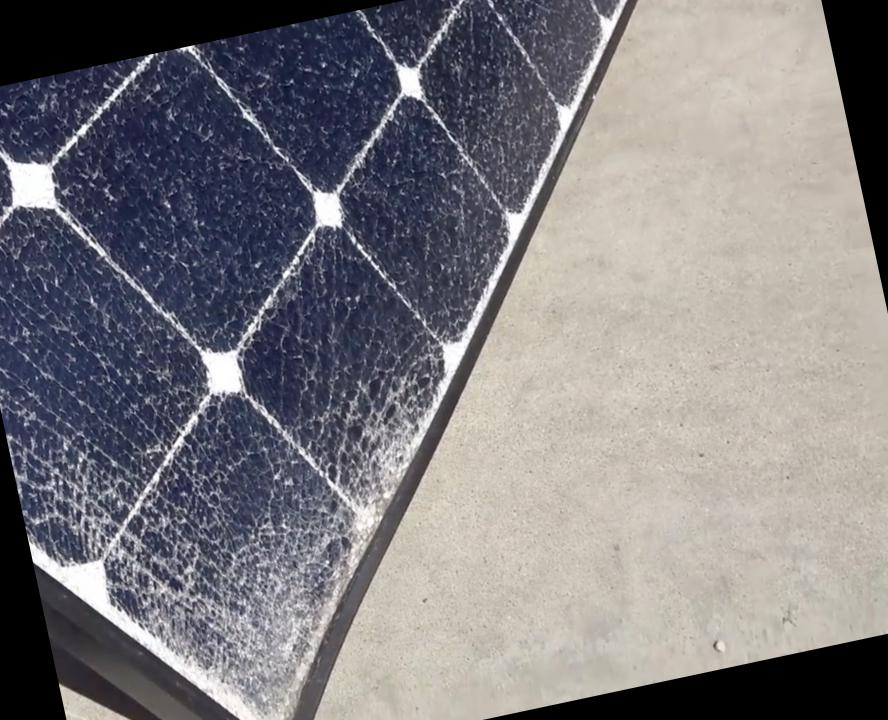Crack: (5, 362, 403, 719), (256, 322, 473, 528)
